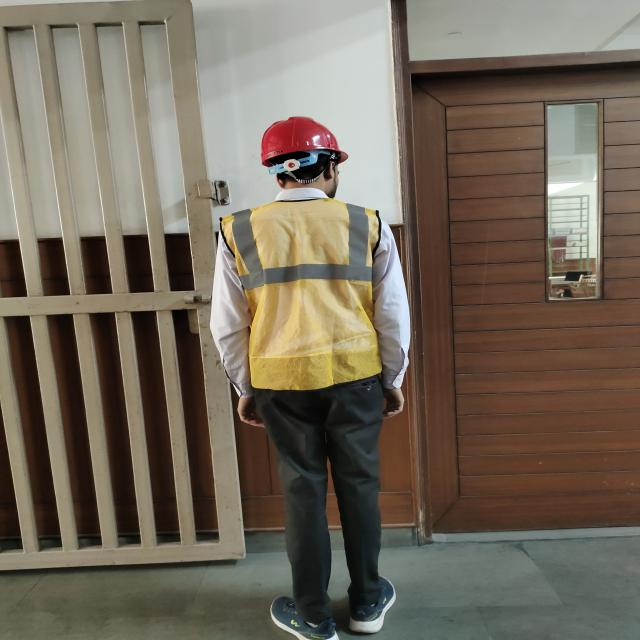safe: (219, 117, 411, 640)
